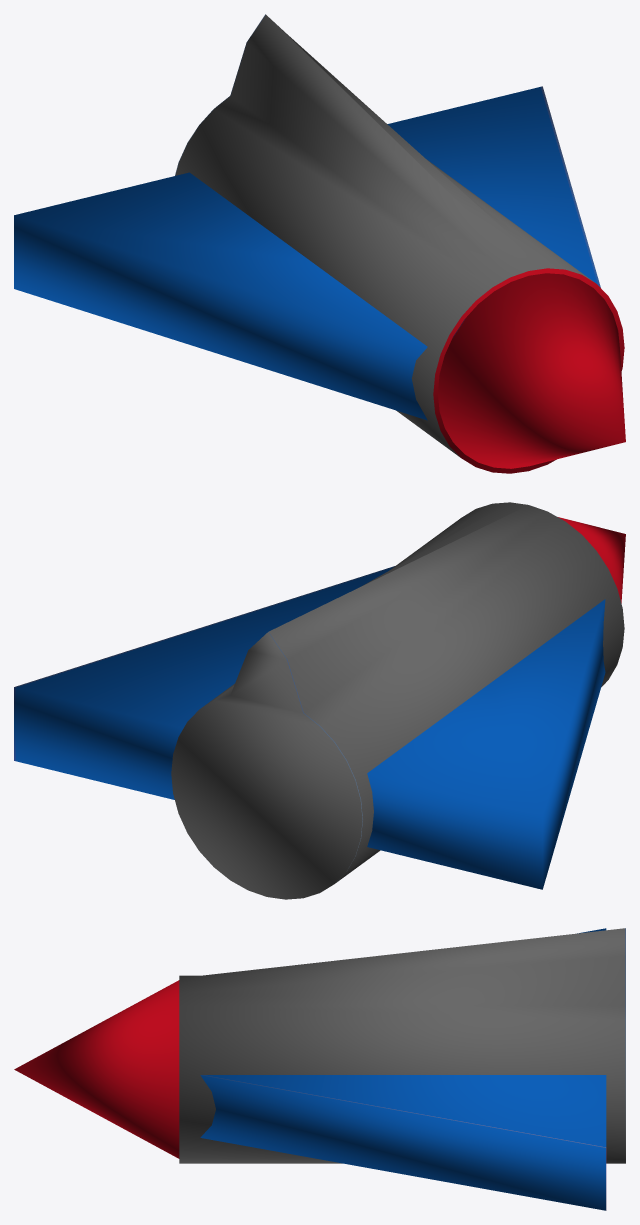
The model's file is jett.obj.
3 renders of one model, top to bottom at view 1: azimuth 30°, elevation 25°; view 2: azimuth 150°, elevation 25°; view 3: azimuth 270°, elevation 25°, orthographic. The views are drawn at different scales.
Visible parts, largest first — view 1: 立方体.001; view 2: 立方体.001; view 3: 立方体.001.
Part boxes in pixels (x1=…): 立方体.001: x1=14, y1=14, x2=625, y2=473; 立方体.001: x1=14, y1=502, x2=625, y2=899; 立方体.001: x1=14, y1=928, x2=625, y2=1210.
Size of the model in its own units: 1.79 by 0.8571 by 2.1.
1 material, 1 textured.
